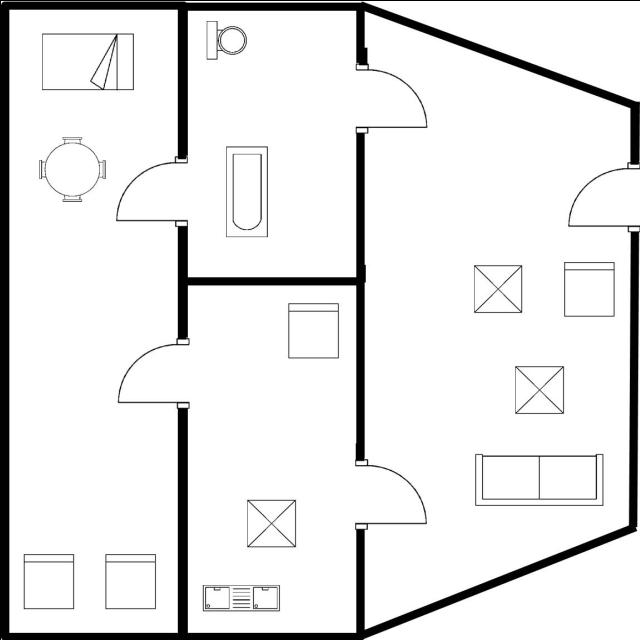bed: (36, 29, 138, 94)
coffee_table: (240, 493, 302, 552), (510, 362, 568, 418), (469, 261, 527, 317)
large_sink: (200, 17, 252, 63)
large_sofa: (469, 450, 607, 510)
round_table: (36, 130, 111, 205)
small_sofa: (280, 296, 346, 364), (19, 550, 82, 614), (559, 257, 619, 321), (100, 549, 160, 613)
tub: (222, 140, 273, 242)
twin_sink: (196, 579, 286, 615)
